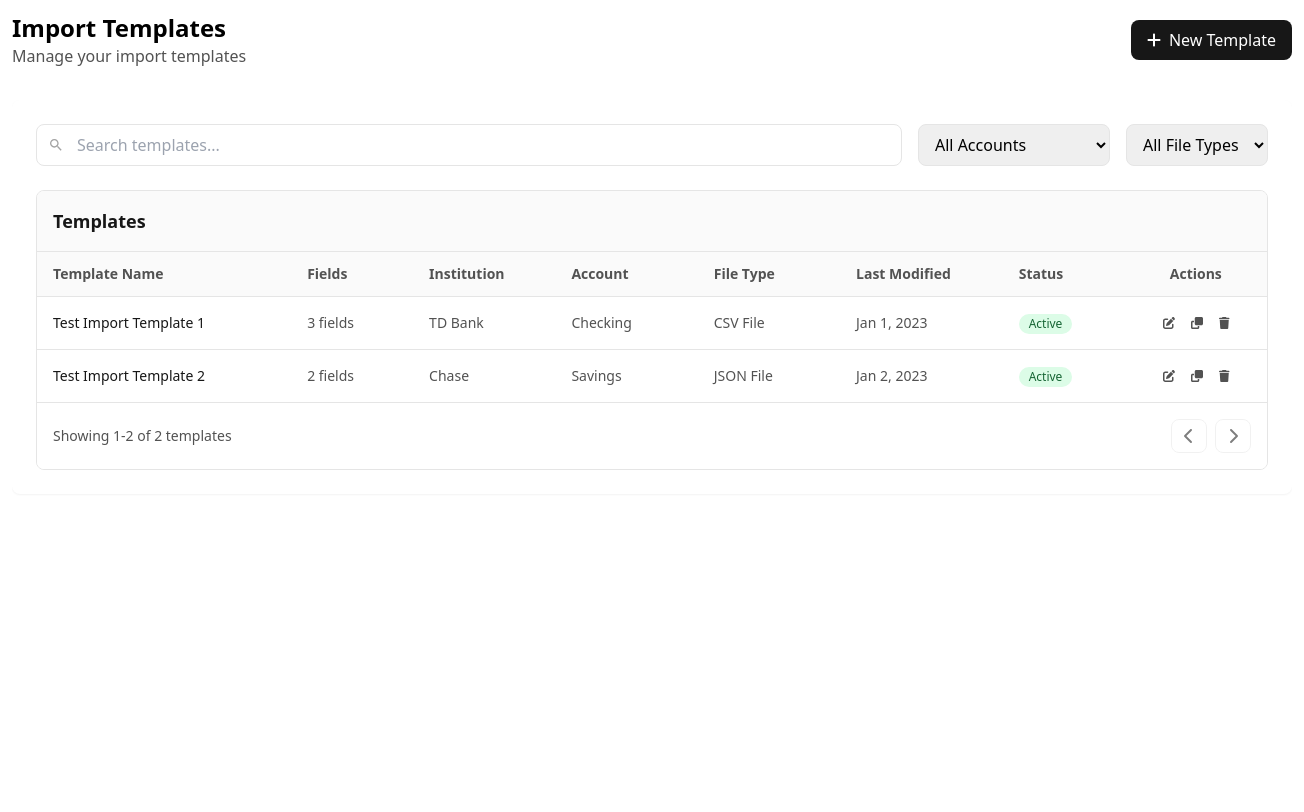
Test: ImportTemplatesPage › Template Creation › should show new template editor when "New Template" is clicked
Expected: the text "Test Import Template 1" is shown, [53, 313, 205, 332]
Click the button "New Template" at x=1211, y=40, box [1131, 20, 1292, 60]
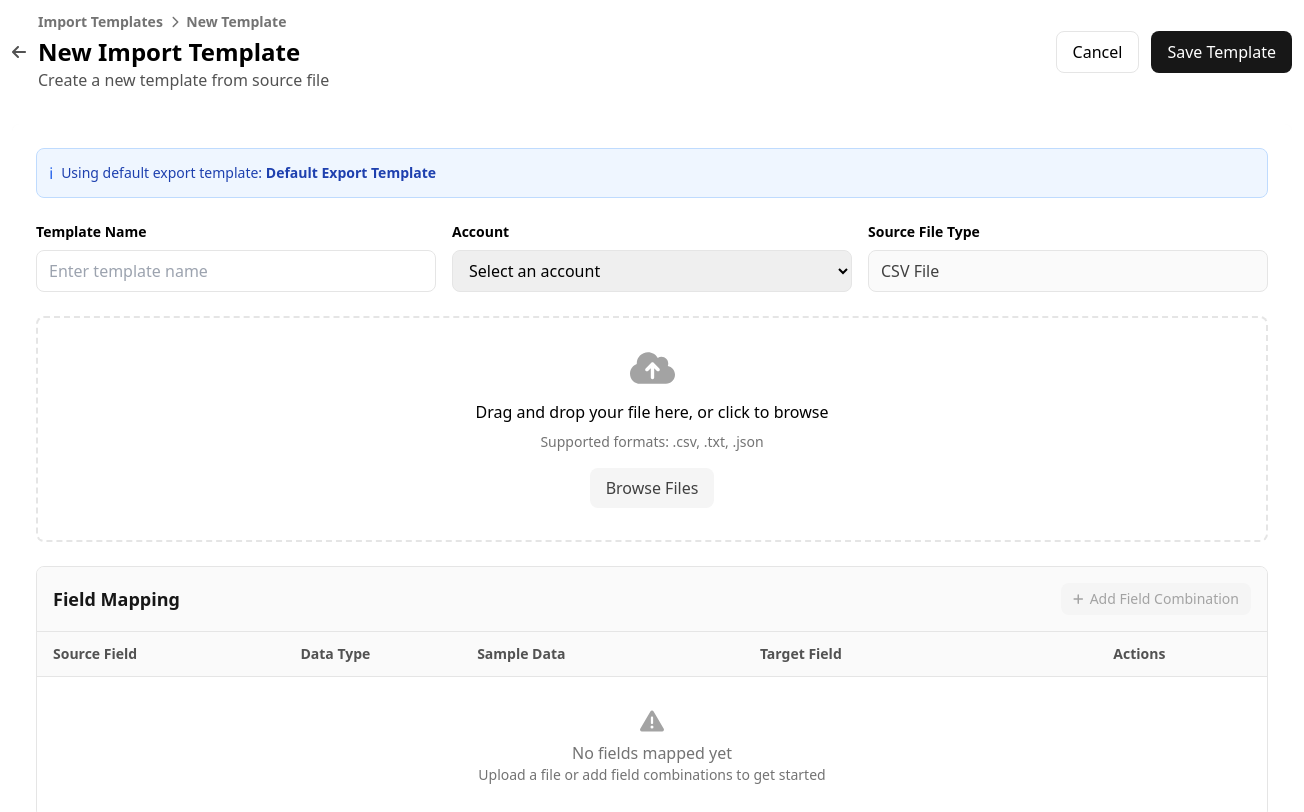
Result: the heading "New Import Template" is shown at [38, 36, 329, 68]
Result: the text "Create a new template from source file" is shown at [38, 68, 329, 92]
